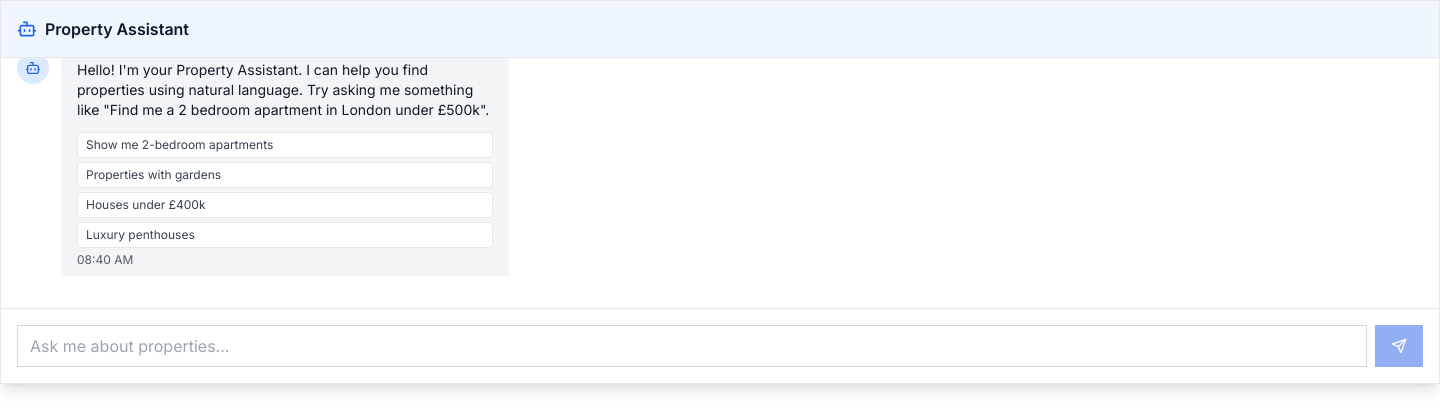
ChatBot TDD Implementation › GREEN Phase: Basic implementation › should send message and receive response
(page scrolled)
Type "I need a 2 bedroom apartment in London" into the field named "message".
click(692, 346); type("I need a 2 bedroom apartment in London")  # box [17,325,1367,367]
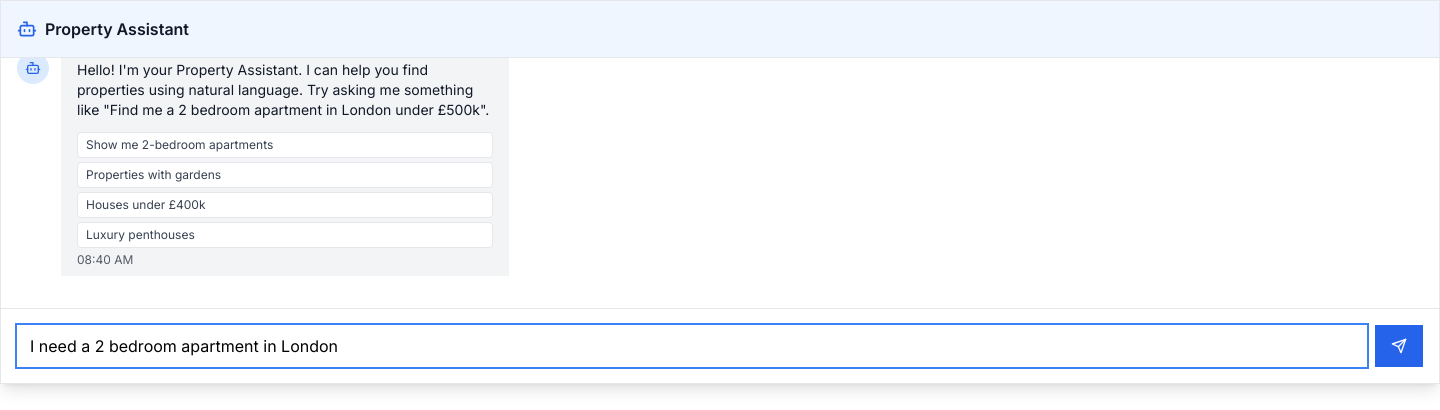
Click the button named "send".
click(1399, 346)  # box [1375,325,1423,367]
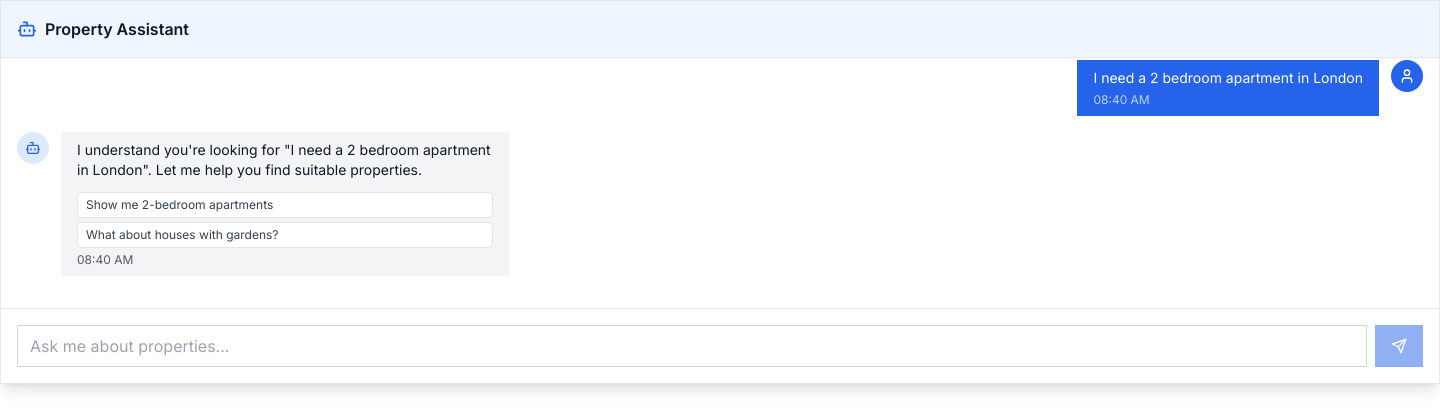
Expected: the text "I understand you're looking for" is shown, [77,141,491,178]
